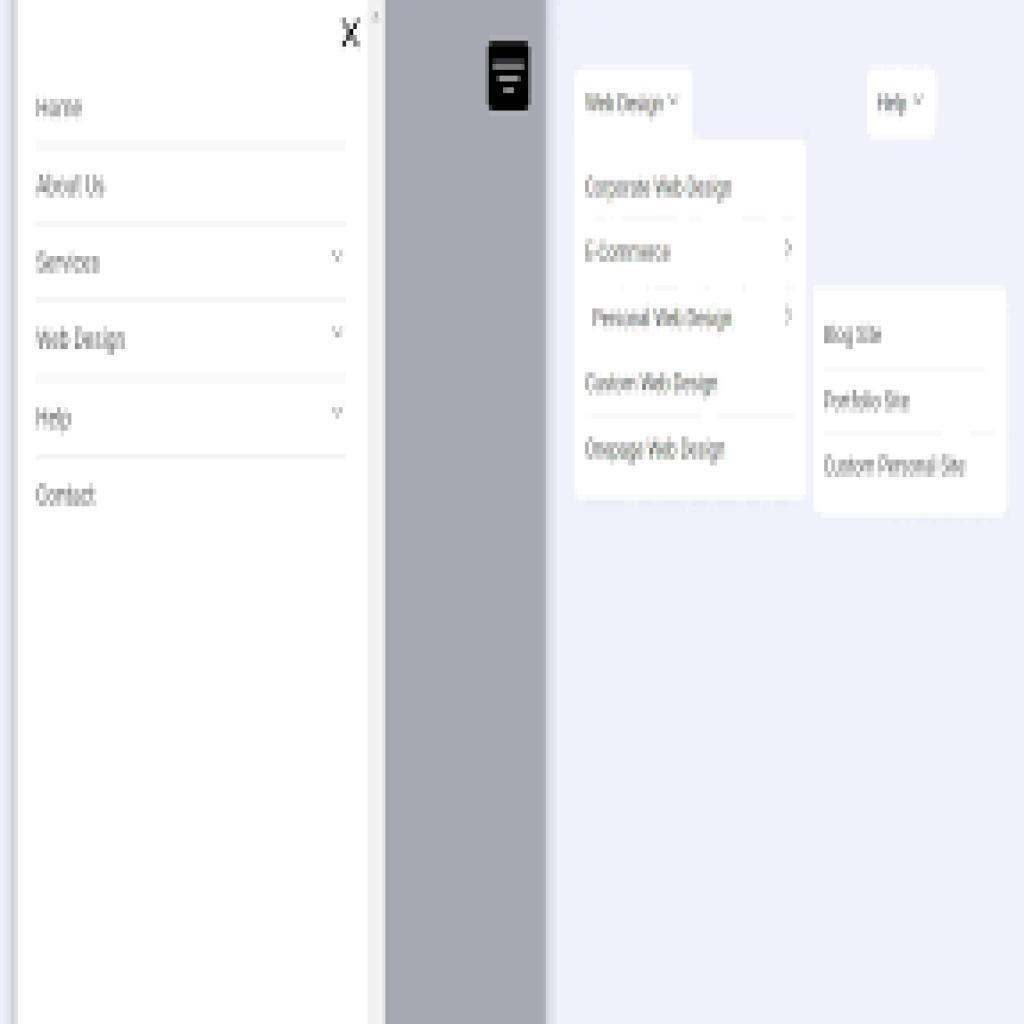dropdown: (576, 68, 693, 136), (866, 64, 937, 141)
